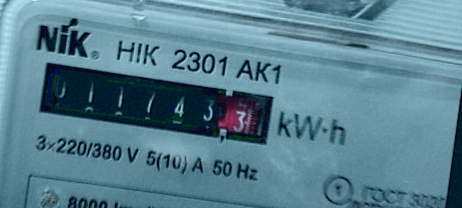0: (52, 72, 70, 101)
1: (112, 80, 128, 109), (84, 76, 97, 104)
3: (200, 95, 218, 124), (230, 108, 247, 135)
4: (171, 91, 188, 120)
7: (141, 84, 160, 114)
screen: (26, 50, 287, 158)
